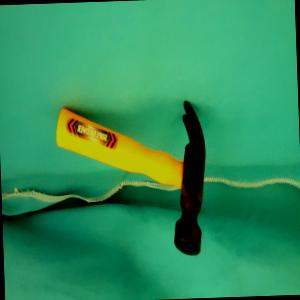martelo: (55, 99, 210, 260)
